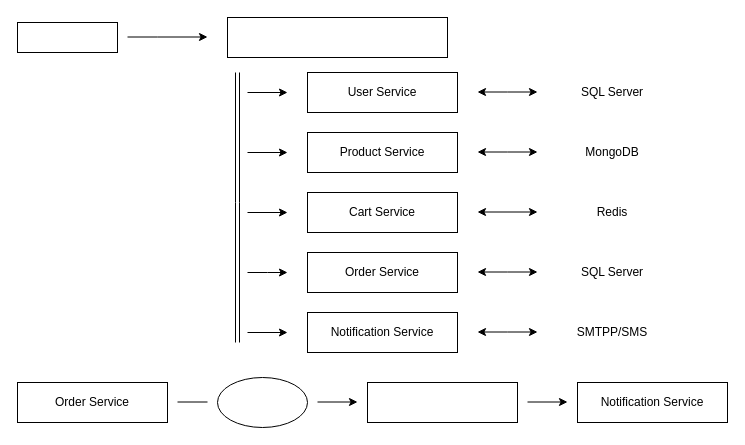
Image size: 745x445. Some labels were removed from this diagram. The centre of each missing label's shape, as x and y in pixels:
"API Gateway (Ocelot)" goes at [337,37].
"Client" goes at [67,37].
"OrderPlaced event" goes at [262,402].
"RabbitMQ" goes at [442,402].
